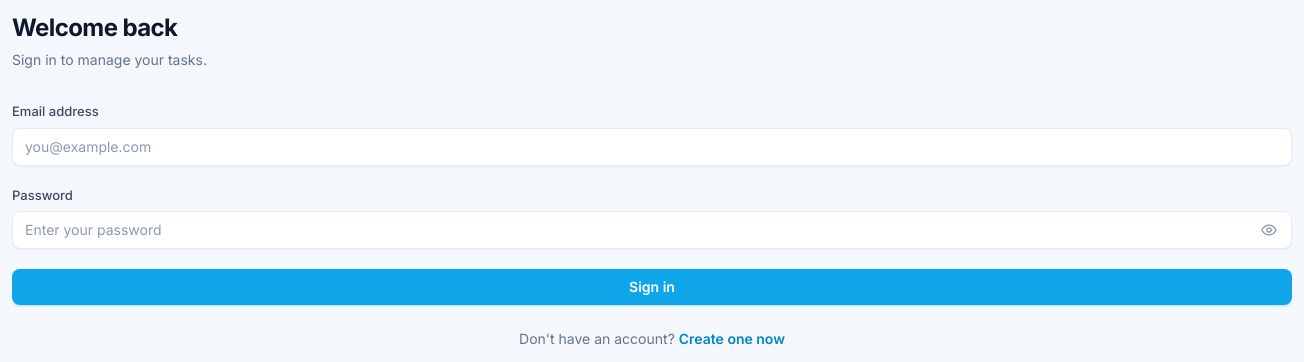
LoginForm › submits credentials and navigates to the dashboard on success
Type "jane@example.com" into the field labelled "Email address" at {"x": 652, "y": 146}, box left=12, top=128, right=1292, bottom=166
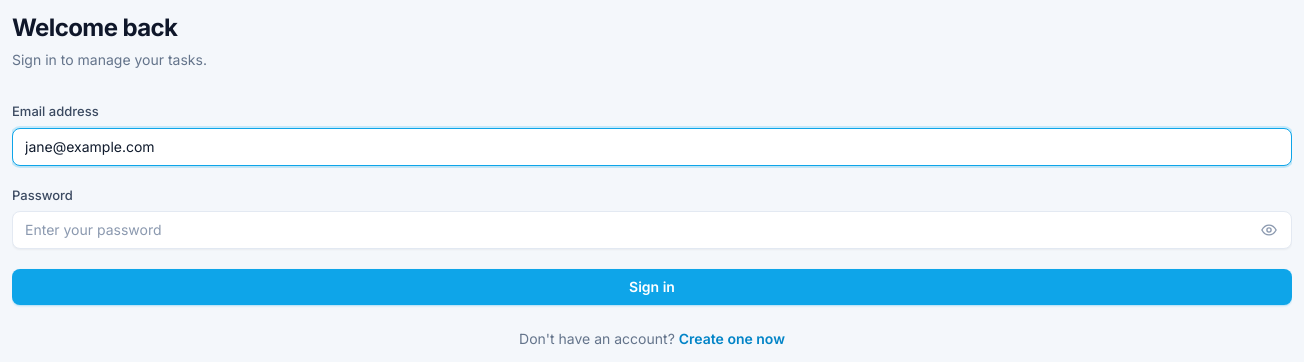
Type "Password123" into the password field labelled "Password" at {"x": 652, "y": 230}, box left=12, top=211, right=1292, bottom=249
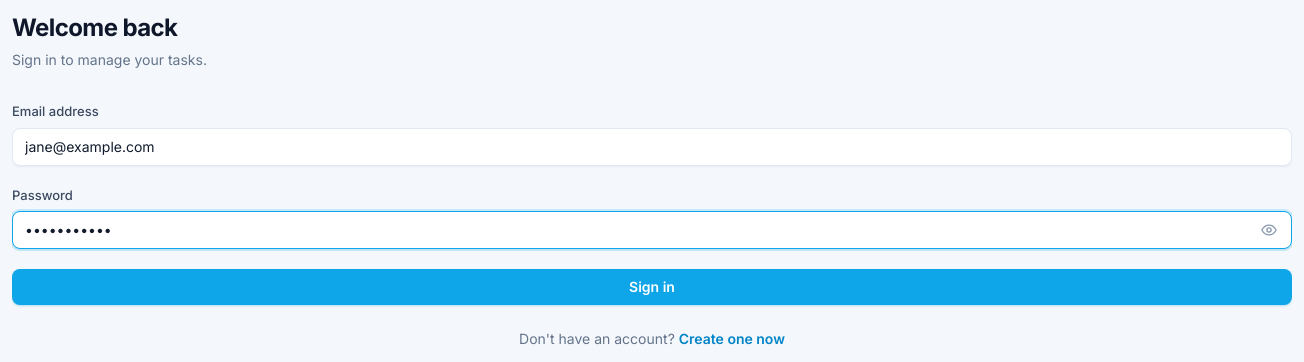
Click the button "Sign in" at {"x": 652, "y": 287}, box left=12, top=269, right=1292, bottom=305
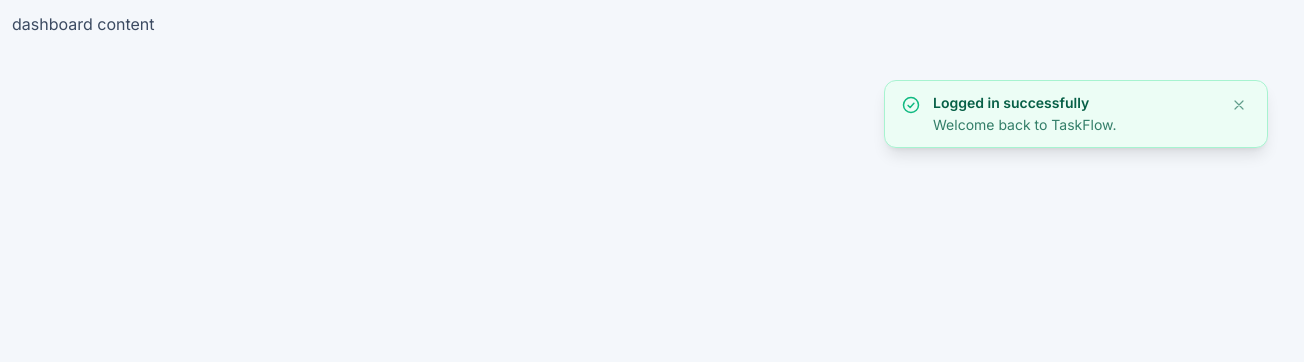
Expected: the text "Logged in successfully" is shown, left=933, top=94, right=1089, bottom=111
Expected: the text "dashboard content" is shown, left=12, top=14, right=155, bottom=34
